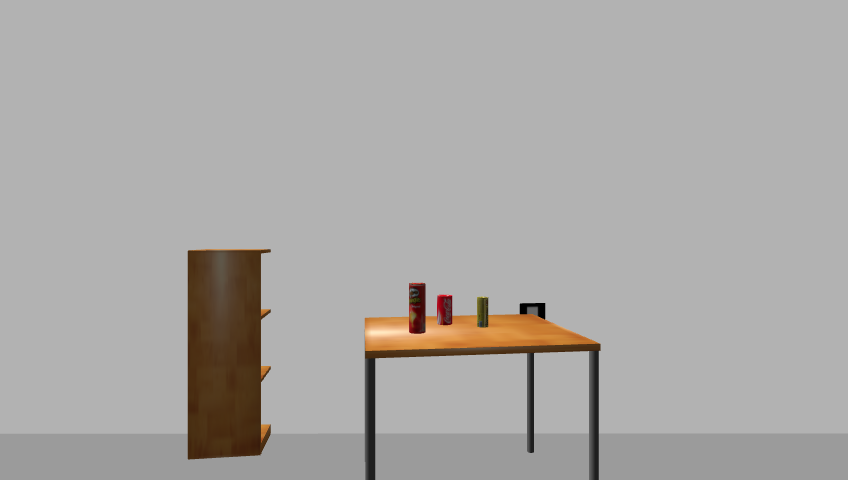aruco marker: (516, 302, 548, 323)
biscuits pack: (476, 296, 490, 329)
bookshelf: (184, 247, 277, 462)
coke can: (437, 294, 454, 326)
dinner table: (356, 313, 609, 480)
pringles can: (407, 281, 426, 335)
